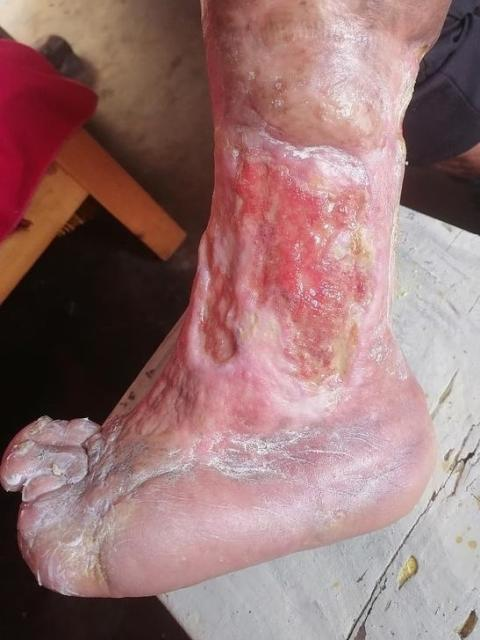wound: (200, 6, 385, 401)
